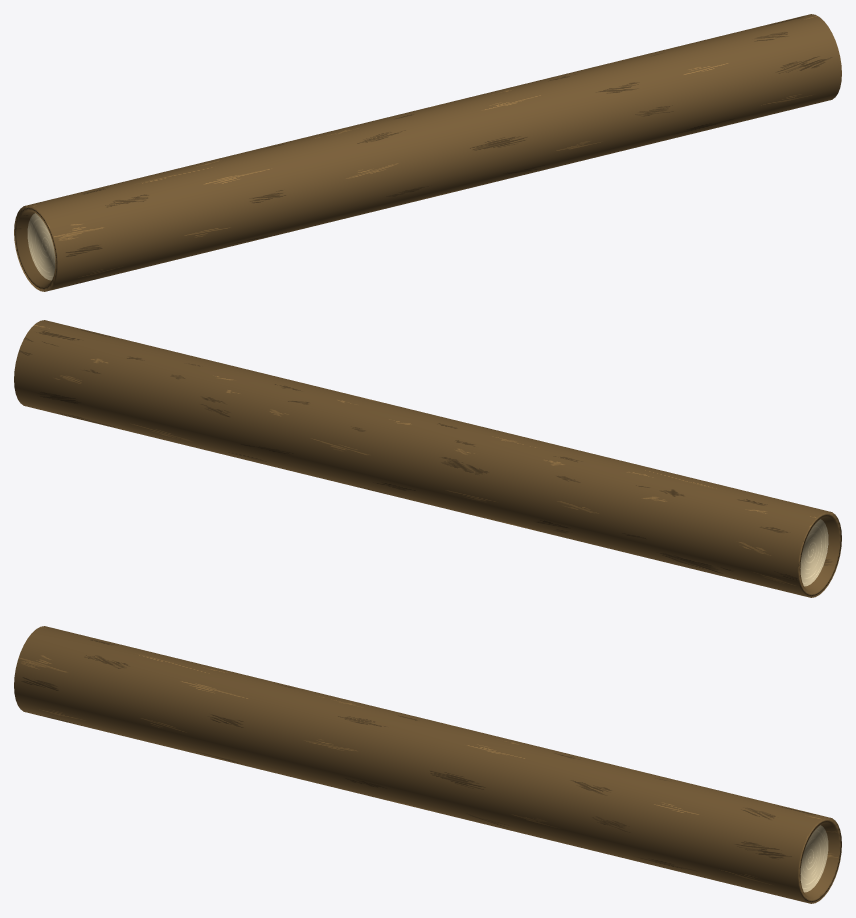
Rendered from Brindille2.fbx.
3 renders of one model, top to bottom at view 1: azimuth 30°, elevation 25°; view 2: azimuth 150°, elevation 25°; view 3: azimuth 330°, elevation 25°, orthographic.
Parts seen in each view (by area): view 1: BRINDILLE 1; view 2: BRINDILLE 1; view 3: BRINDILLE 1.
Boxes of the visible parts, <box> form: BRINDILLE 1: <box>14,14,841,291</box>; BRINDILLE 1: <box>14,320,841,597</box>; BRINDILLE 1: <box>14,626,841,903</box>.
Bounding box in the file's own units: 35.45 × 3.48 × 3.48.
2 materials, 2 textured.
